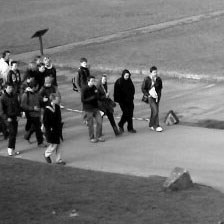person: (43, 91, 66, 166), (81, 75, 105, 143), (22, 80, 45, 149), (114, 68, 138, 134), (141, 66, 164, 133), (1, 80, 20, 155), (97, 73, 119, 137), (75, 58, 91, 124), (6, 60, 22, 123), (41, 75, 60, 110), (42, 57, 56, 96), (1, 48, 12, 90), (32, 64, 44, 80), (30, 55, 42, 66)
